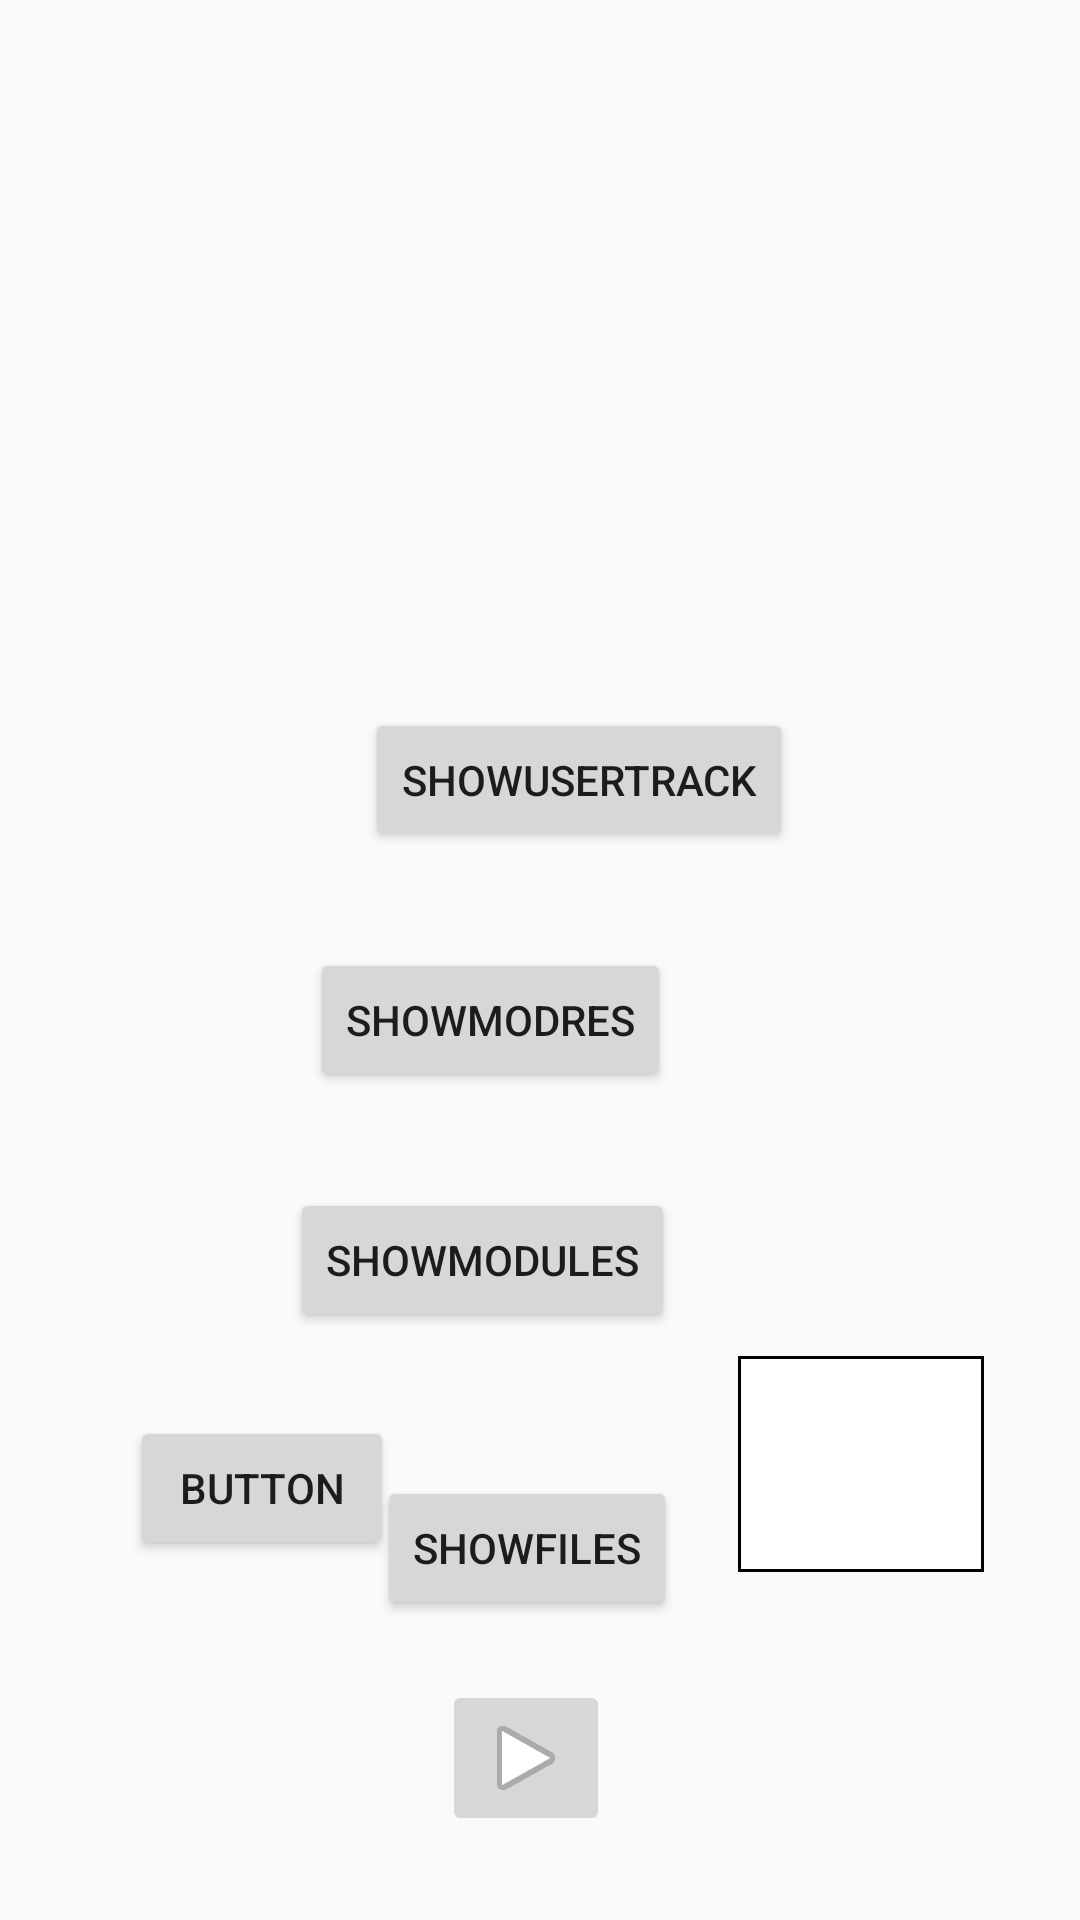

Icon click points for this 1080x1920 phone screenshot, format (x=x, y=y):
play1: (x=526, y=1758)
